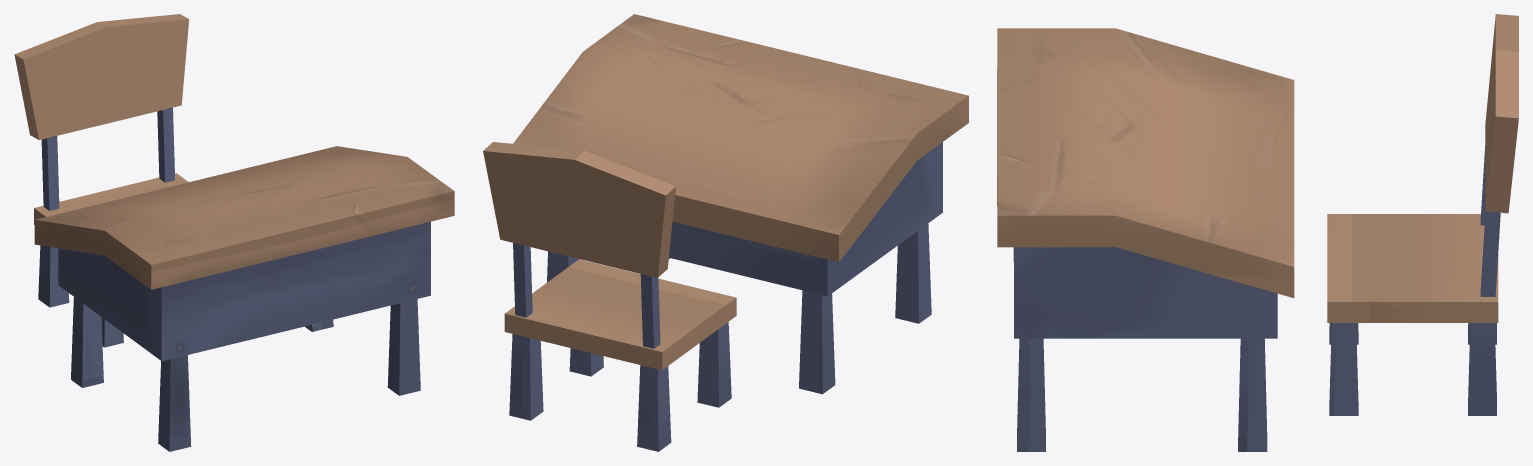
Rendered from BenchChair_Menu_GEO.fbx.
3 renders of one model, left to right at view 1: azimuth 30°, elevation 25°; view 2: azimuth 150°, elevation 25°; view 3: azimuth 270°, elevation 25°, orthographic. The views are drawn at different scales.
Parts seen in each view (by area): view 1: Cube; view 2: Cube; view 3: Cube.
Part boxes in pixels (x1,y1,x2,y2): Cube: [14, 14, 454, 451]; Cube: [483, 14, 968, 451]; Cube: [997, 14, 1518, 451].
Bounding box in the file's own units: 172 × 202 × 138.
Materials: 1 (1 with a texture image).
